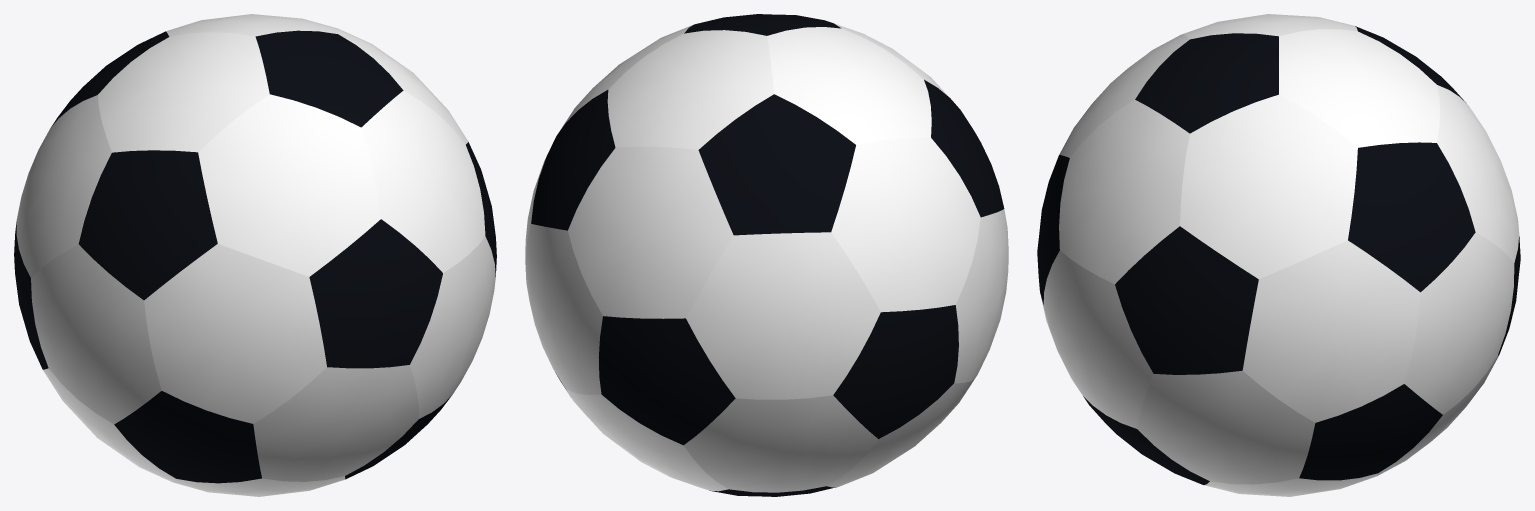
File: Balon.obj
The picture shows the model from 3 angles, left to right: view 1: azimuth 30°, elevation 25°; view 2: azimuth 150°, elevation 25°; view 3: azimuth 270°, elevation 25°; orthographic projection.
Parts seen in each view (by area): view 1: Balon:polySurface13pSolid1, Balon:polySurface11; view 2: Balon:polySurface13pSolid1, Balon:polySurface11; view 3: Balon:polySurface13pSolid1, Balon:polySurface11.
Boxes of the visible parts, bbox=[...] form: Balon:polySurface13pSolid1: bbox=[16, 14, 495, 496]; Balon:polySurface11: bbox=[14, 30, 496, 483]; Balon:polySurface13pSolid1: bbox=[525, 23, 1008, 492]; Balon:polySurface11: bbox=[531, 14, 1004, 496]; Balon:polySurface13pSolid1: bbox=[1040, 14, 1519, 496]; Balon:polySurface11: bbox=[1037, 26, 1520, 484].
Bounding box in the file's own units: 1.79 × 1.8 × 1.8.
